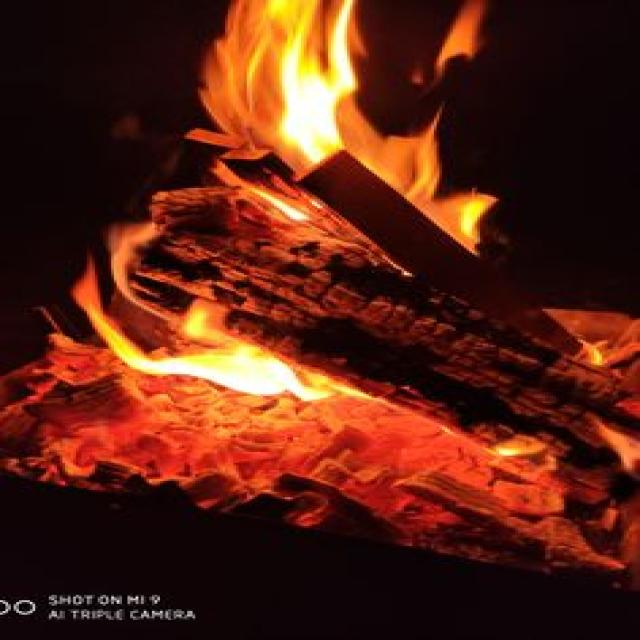Fire: (64, 0, 508, 395), (80, 398, 528, 547)
